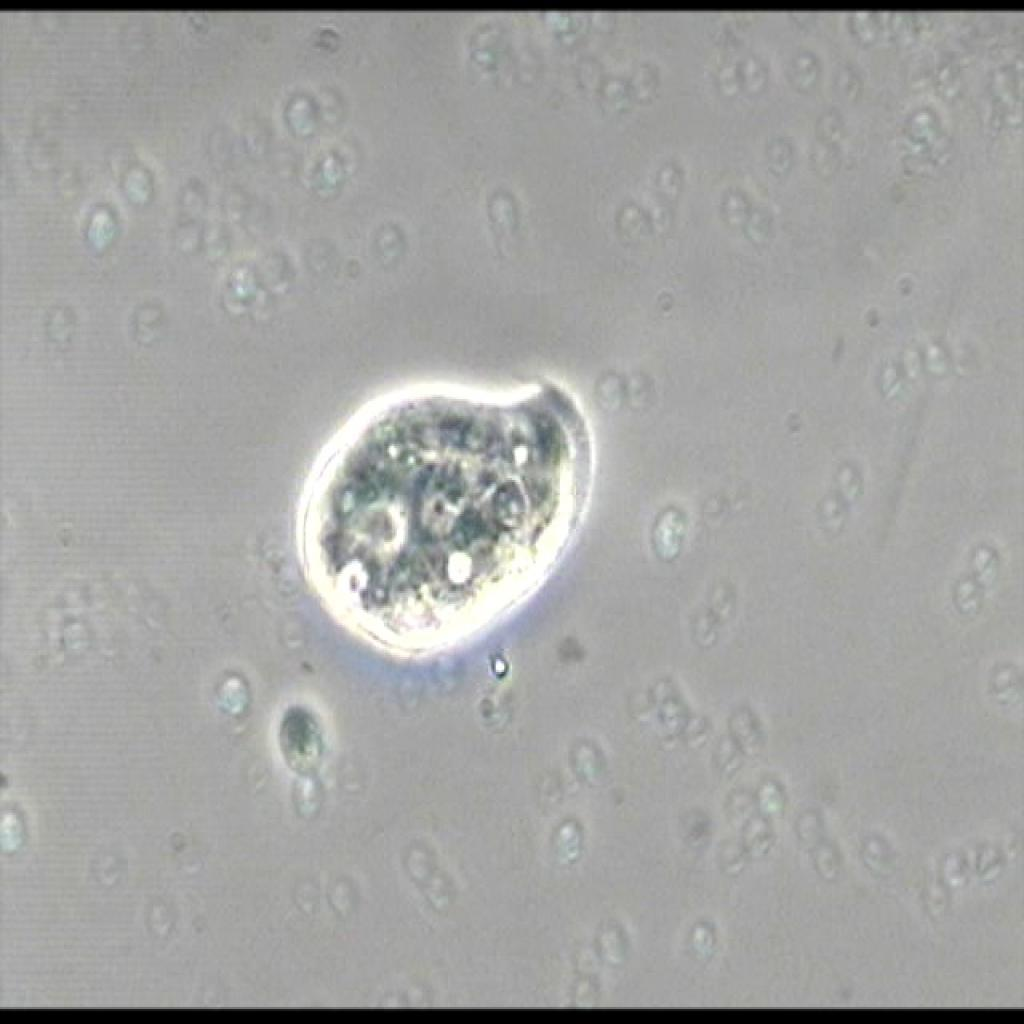Chilodonella: (275, 326, 629, 683)
